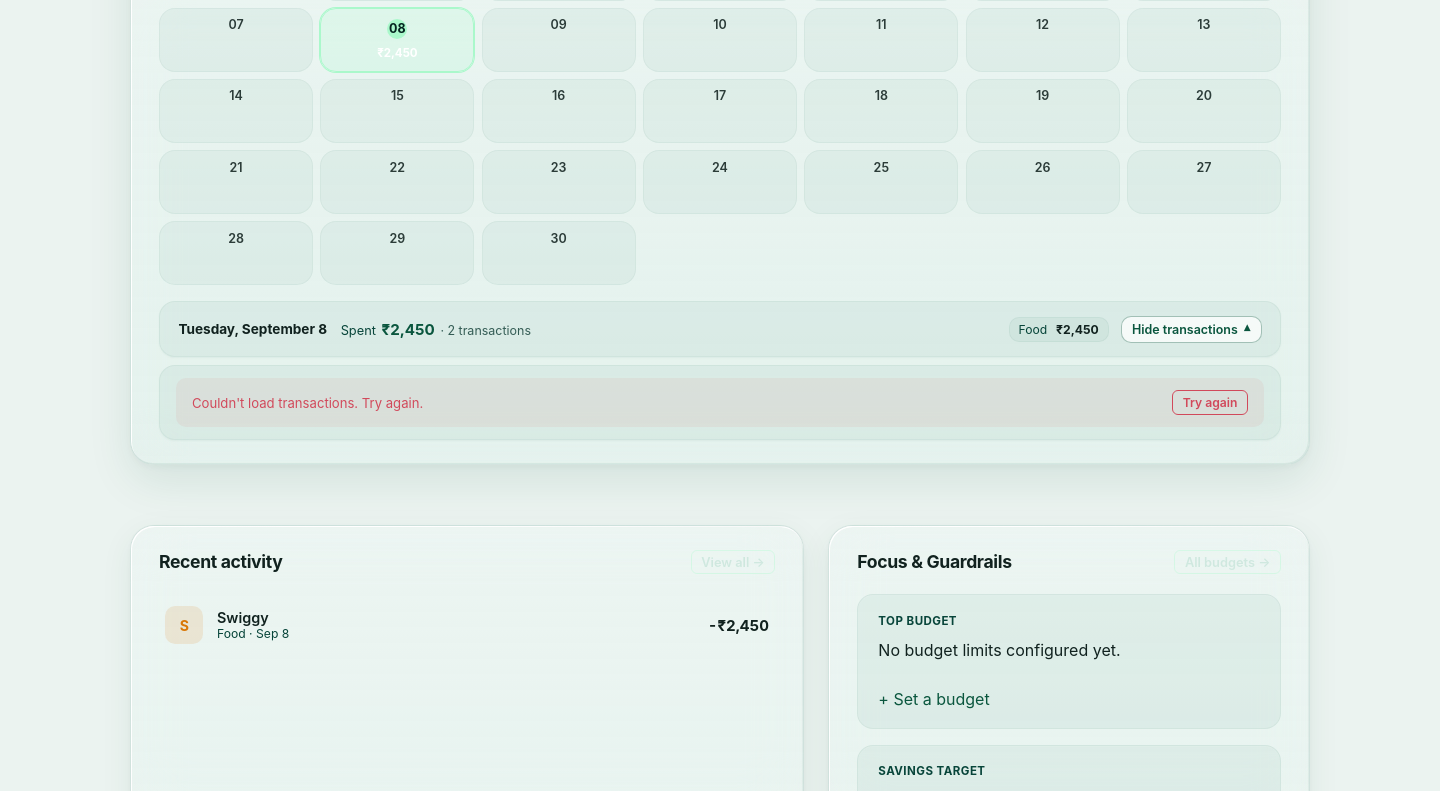
DashboardComponent › Spending Calendar - Expandable Daily Transactions › shows clean error state and allows retrying when API request fails
(page scrolled)
Expected: the message "Couldn't load transactions. Try again. Try again" is shown, [176,378,1264,427]
Expected: the message with class "daily-tx-error" shows "Couldn't load transactions. Try again.", [192,395,423,411]
Click the button with class "btn-retry-daily-tx". click: (1210, 403)
box: [1172,390,1248,415]
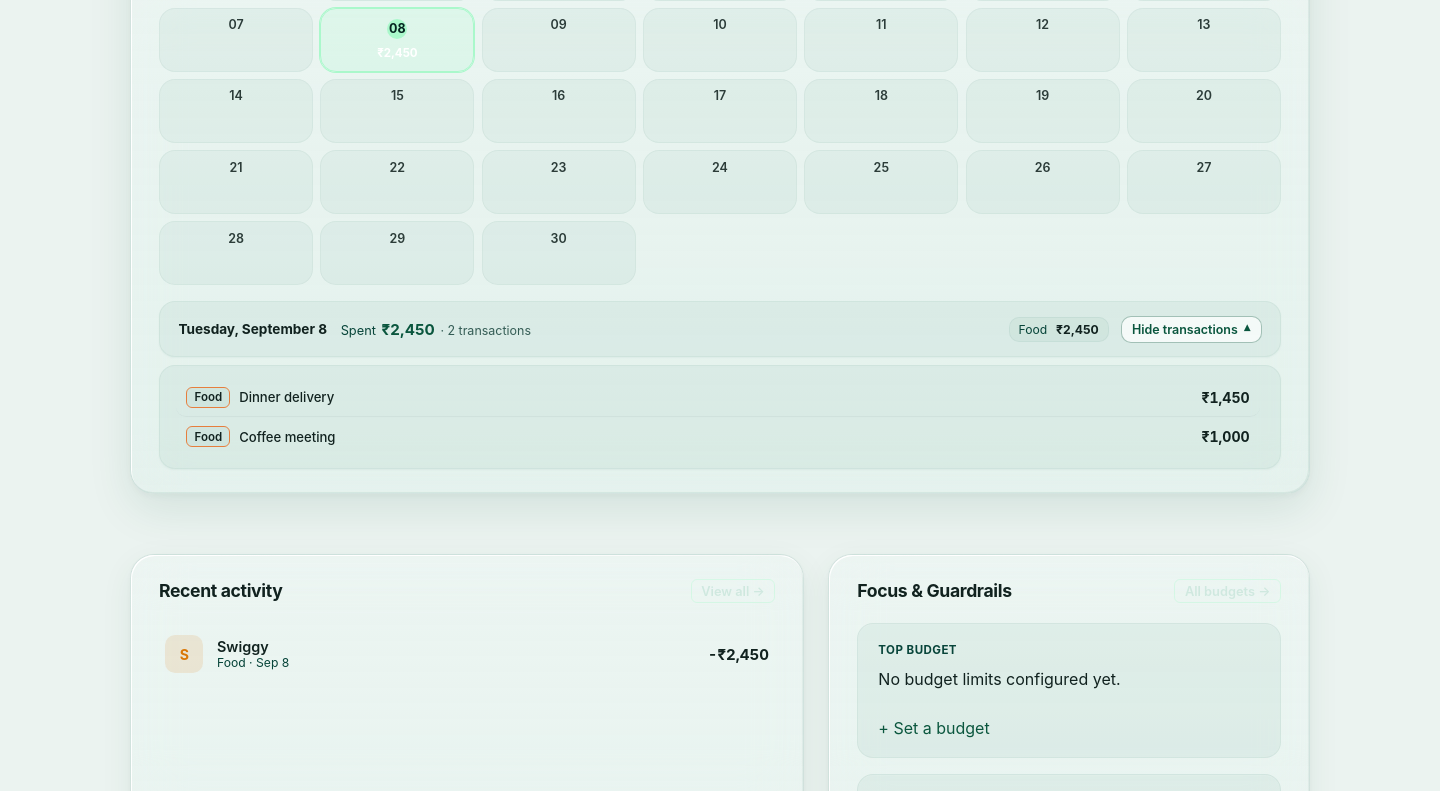
Expected: the number of buttons with class "daily-tx-row" is 2, [176,378,1260,418]; [186,426,1250,447]
